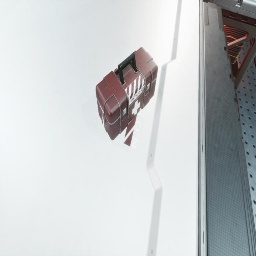FirstAidBox ,: (96, 47, 158, 140)
